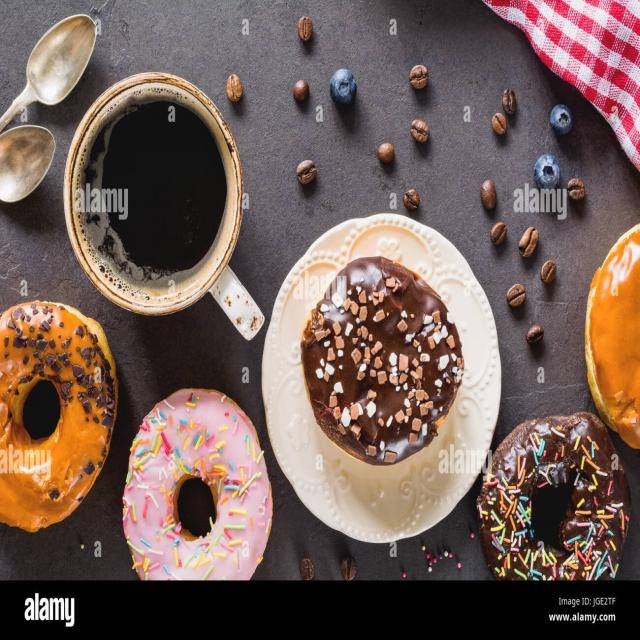donut: (302, 255, 464, 466), (119, 382, 273, 582), (0, 299, 118, 531), (482, 410, 626, 580), (580, 224, 640, 453)
kopi hitam: (64, 72, 245, 314)
